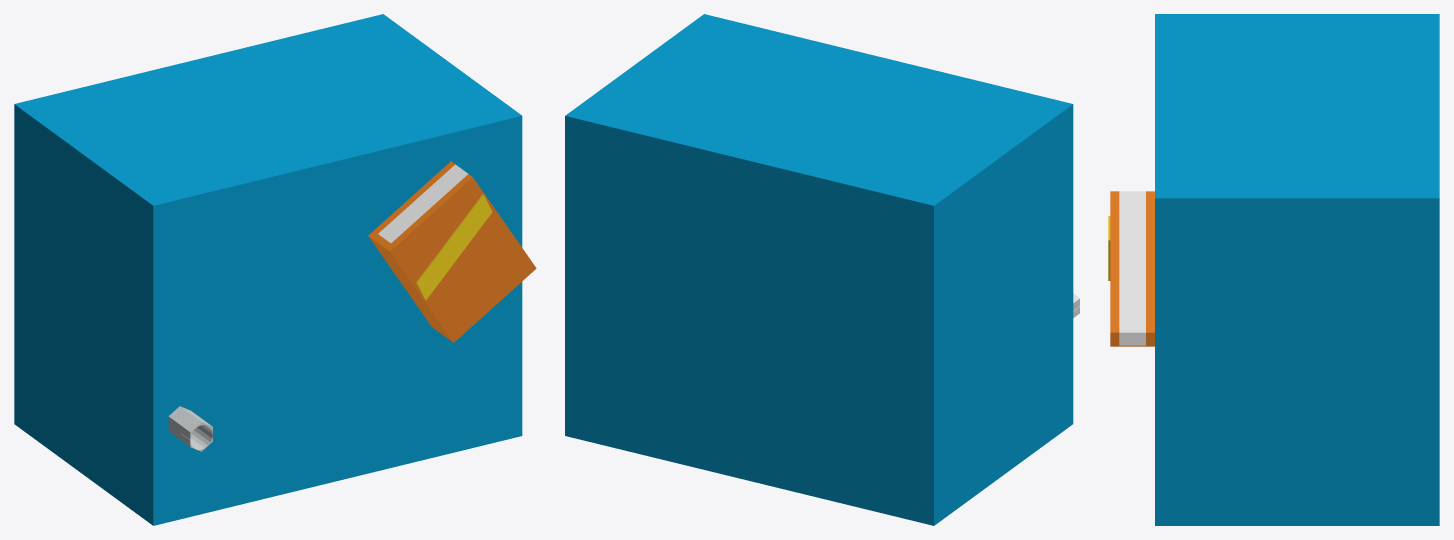
Rendered from tinker.obj.
3 views of the same model, side by side, from view 1: azimuth 30°, elevation 25°; view 2: azimuth 150°, elevation 25°; view 3: azimuth 270°, elevation 25° (orthographic). The views are drawn at different scales.
Parts seen in each view (by area): view 1: group_0_40919, group_0_16089887, group_0_16768282, group_0_16448250, group_0_14541540; view 2: group_0_40919; view 3: group_0_40919, group_0_16448250, group_0_16089887.
Part boxes in pixels (box(x1,y1,x2,y2)): group_0_40919: box(14, 14, 522, 525); group_0_16089887: box(368, 161, 536, 342); group_0_16768282: box(416, 194, 492, 300); group_0_16448250: box(378, 164, 467, 243); group_0_14541540: box(168, 406, 212, 451); group_0_40919: box(565, 14, 1073, 525); group_0_40919: box(1155, 14, 1439, 525); group_0_16448250: box(1119, 191, 1145, 345); group_0_16089887: box(1110, 191, 1154, 346).
Bounding box in the file's own units: 49 × 43 × 37.25.
